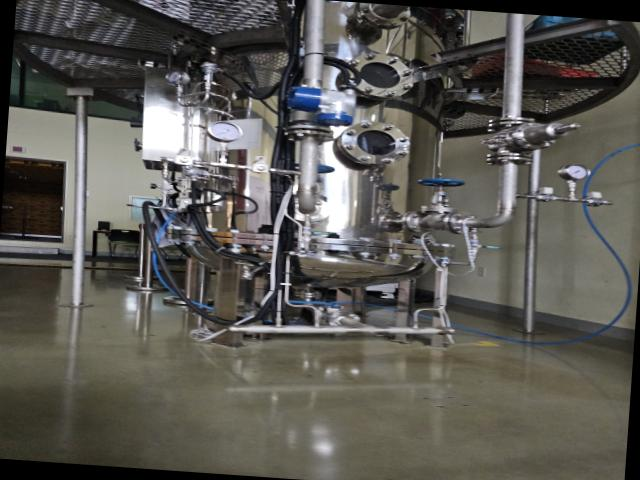Flange: (334, 119, 412, 168), (343, 50, 415, 99)
Flush Ring: (355, 2, 412, 29), (279, 195, 332, 224), (440, 208, 480, 236), (281, 123, 334, 144), (484, 150, 534, 168), (324, 308, 362, 331), (400, 209, 434, 234), (484, 115, 536, 131)
GasRegulator: (162, 58, 241, 120)
Nuts: (169, 154, 197, 168), (246, 161, 274, 175), (533, 191, 559, 203), (582, 196, 608, 207)
Piston Valve: (414, 176, 466, 215), (313, 163, 334, 201)
Pressure Gage: (203, 120, 244, 164), (554, 162, 592, 198)
